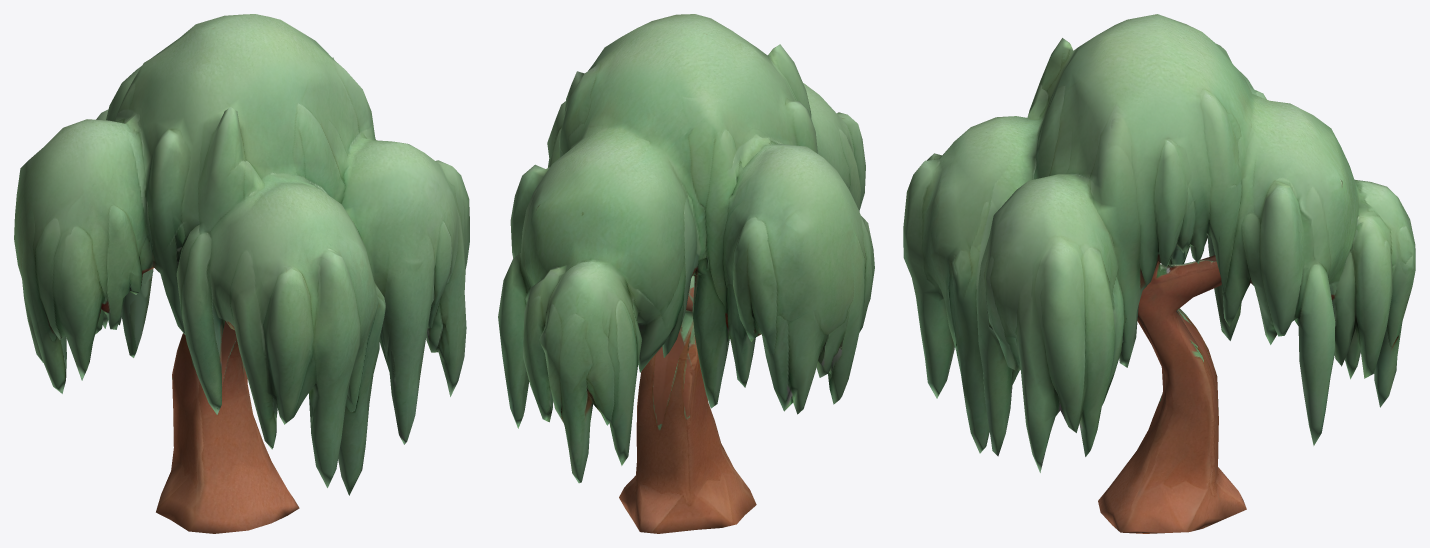
Rendered from Prop_WillowTree.glb.
3 renders of one model, left to right at view 1: azimuth 30°, elevation 25°; view 2: azimuth 150°, elevation 25°; view 3: azimuth 270°, elevation 25°, orthographic. The views are drawn at different scales.
Visible parts, largest first — view 1: input; view 2: input; view 3: input.
Boxes of the visible parts, <box> form: input: <box>14,14,469,533</box>; input: <box>498,14,874,533</box>; input: <box>903,14,1415,533</box>.
Size of the model in its own units: 0.8204 by 1 by 0.9525.
Materials: 1 (1 with a texture image).
